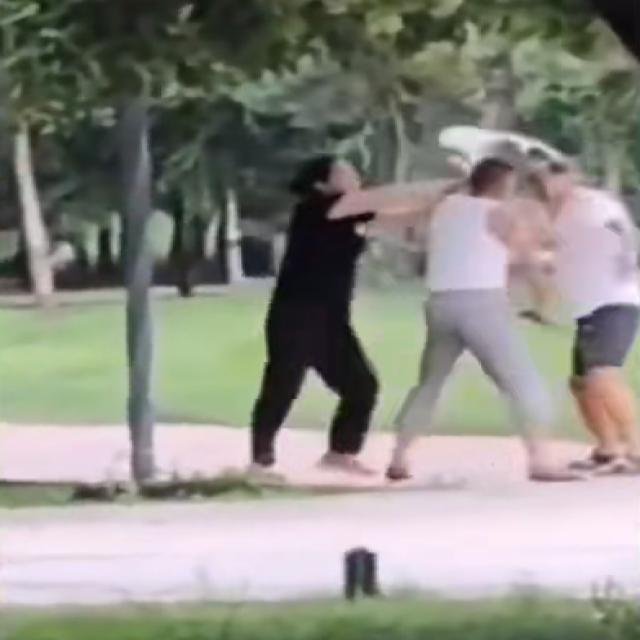fight: (251, 136, 556, 273)
